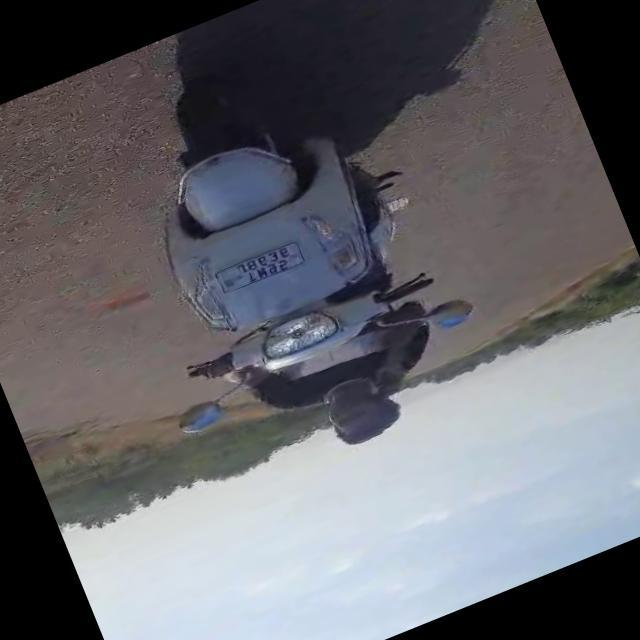USING_MOBILE: (344, 297, 454, 408)
